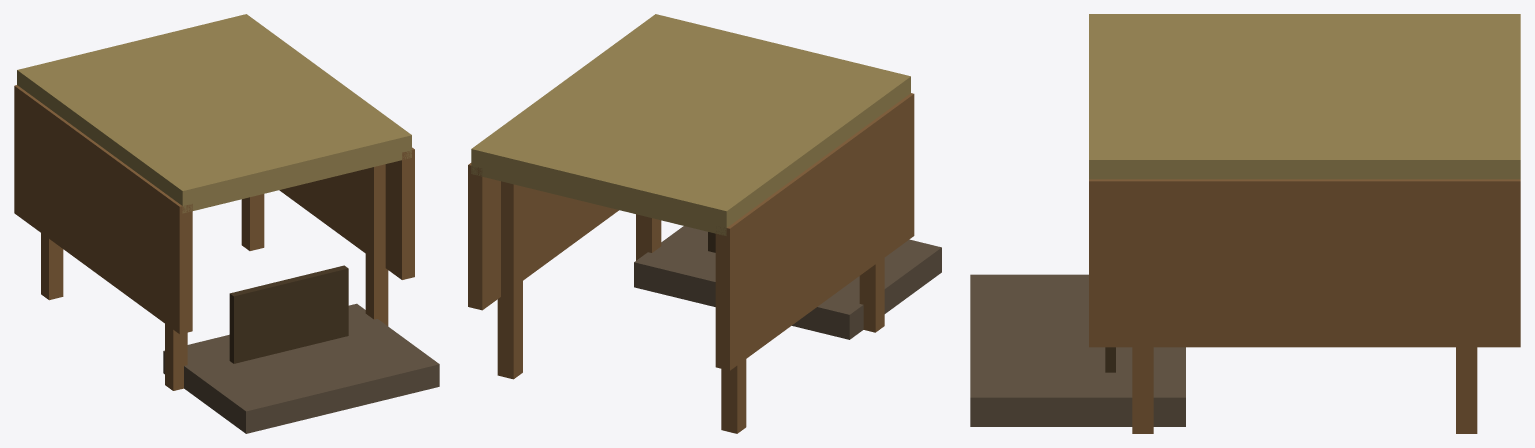
File: sap.glb
3 renders of one model, left to right at view 1: azimuth 30°, elevation 25°; view 2: azimuth 150°, elevation 25°; view 3: azimuth 270°, elevation 25°, orthographic. The views are drawn at different scales.
Visible parts, largest first — view 1: part_4, part_5, part_7, part_8, part_6, part_3, part_0, part_2, part_1; view 2: part_4, part_5, part_7, part_6, part_2, part_0, part_1, part_3; view 3: part_6, part_4, part_7, part_2, part_3.
Boxes of the visible parts, x1,y1,x2,y2 form: part_4: (17,14,411,213); part_5: (14,85,192,334); part_7: (163,303,439,433); part_8: (229,265,348,363); part_6: (279,147,414,279); part_3: (365,164,388,325); part_0: (41,233,63,300); part_2: (241,194,264,250); part_1: (165,324,187,390); part_4: (471,14,910,235); part_5: (715,93,914,370); part_7: (634,226,941,339); part_6: (468,163,618,310); part_2: (497,181,522,379); part_0: (721,359,746,433); part_1: (859,258,884,332); part_3: (636,214,661,260); part_6: (1089,179,1520,347); part_4: (1089,14,1520,179); part_7: (970,274,1185,426); part_2: (1456,347,1477,433); part_3: (1132,347,1153,433).
Bounding box in the file's own units: 3.28 × 2.85 × 5.1.
